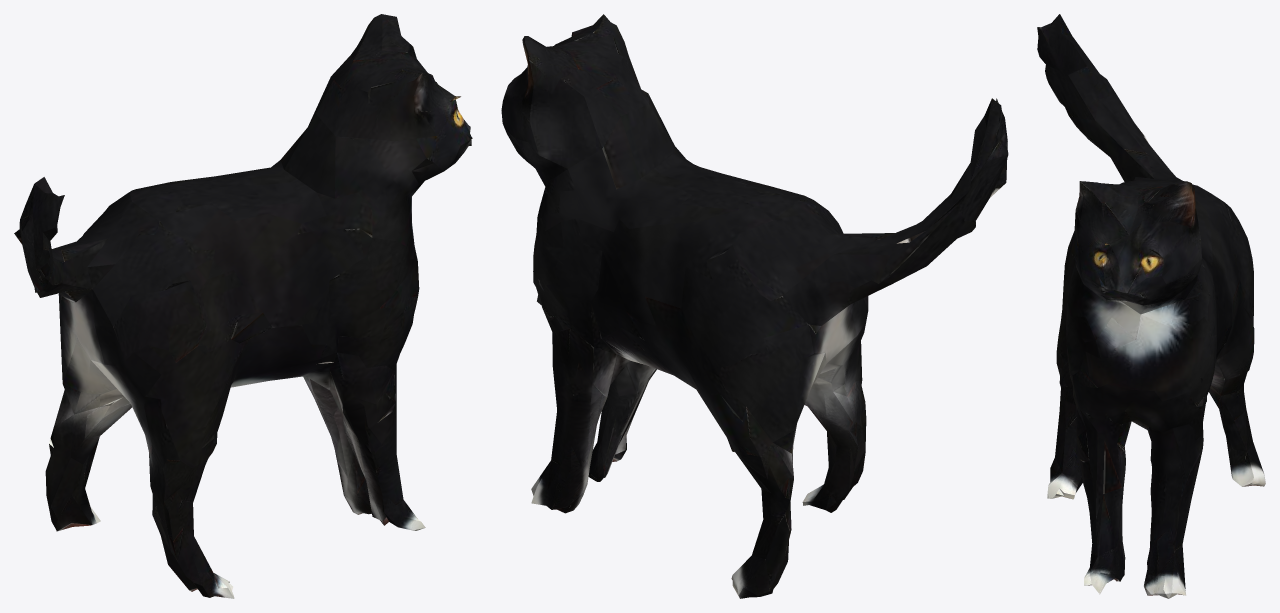
File: TRIMCAT-lo.glb
The picture shows the model from 3 angles, left to right: view 1: azimuth 30°, elevation 25°; view 2: azimuth 150°, elevation 25°; view 3: azimuth 270°, elevation 25°; orthographic projection. The views are drawn at different scales.
Visible parts, largest first — view 1: output_unwrapped; view 2: output_unwrapped; view 3: output_unwrapped.
Part boxes in pixels (bbox=[...]): output_unwrapped: bbox=[14, 14, 472, 598]; output_unwrapped: bbox=[501, 14, 1008, 598]; output_unwrapped: bbox=[1037, 14, 1265, 598].
Bounding box in the file's own units: 1.05 × 1 × 0.4898.
1 material, 1 textured.
